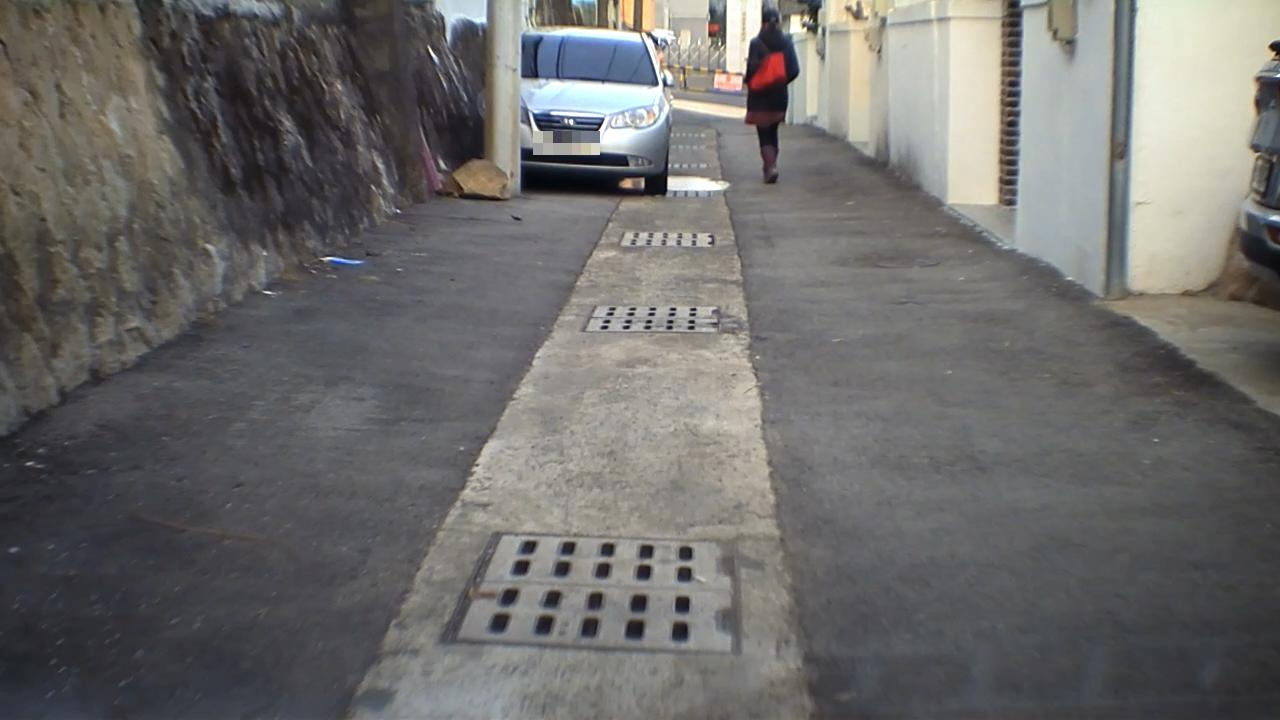banner: (741, 340, 824, 717), (436, 341, 545, 536), (325, 534, 437, 720), (544, 200, 618, 326), (720, 187, 757, 332), (453, 158, 512, 200), (711, 117, 732, 182)
